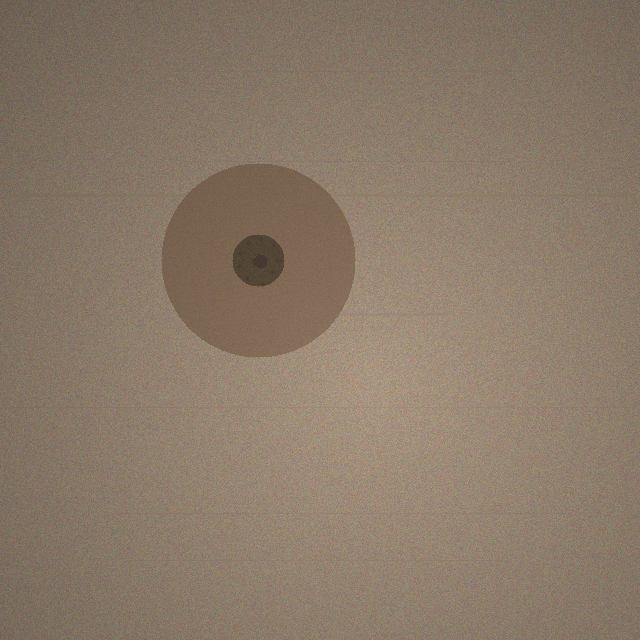cold_weld: (161, 163, 355, 357)
